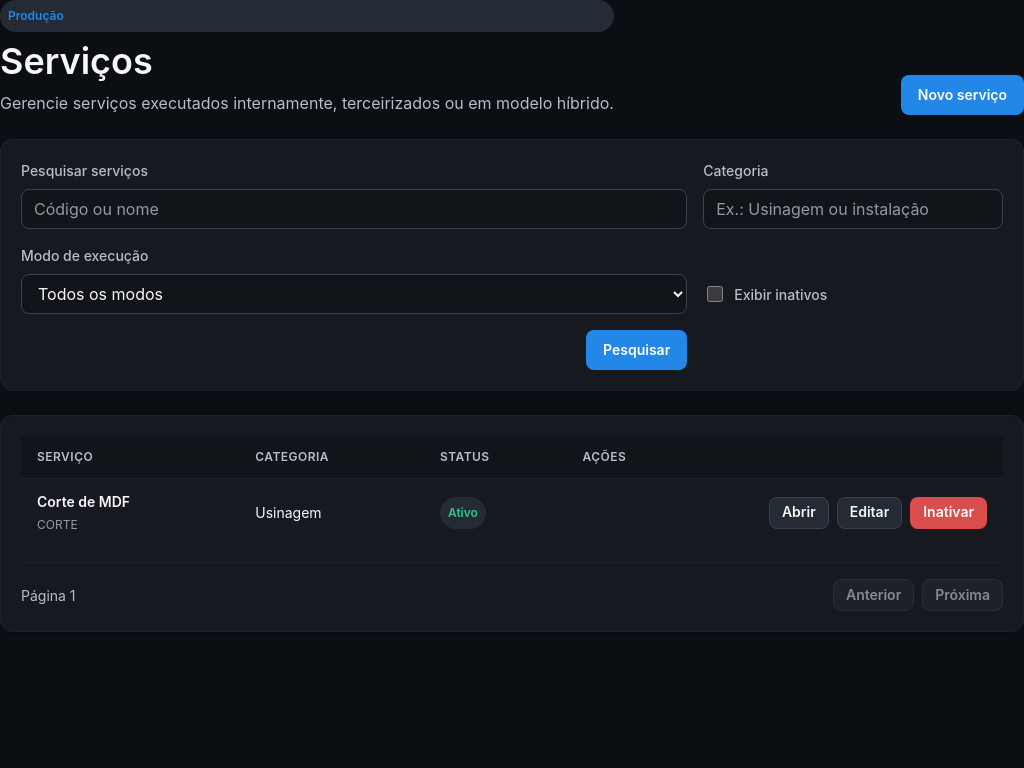
Test case: ServicesRoute › inativa um serviço após confirmação
The image size is (1024, 768).
Expected: the button "Corte de MDF" is shown, [37,491,130,512]
Click the button "Inativar" at {"x": 949, "y": 513}, box [910,497,987,529]
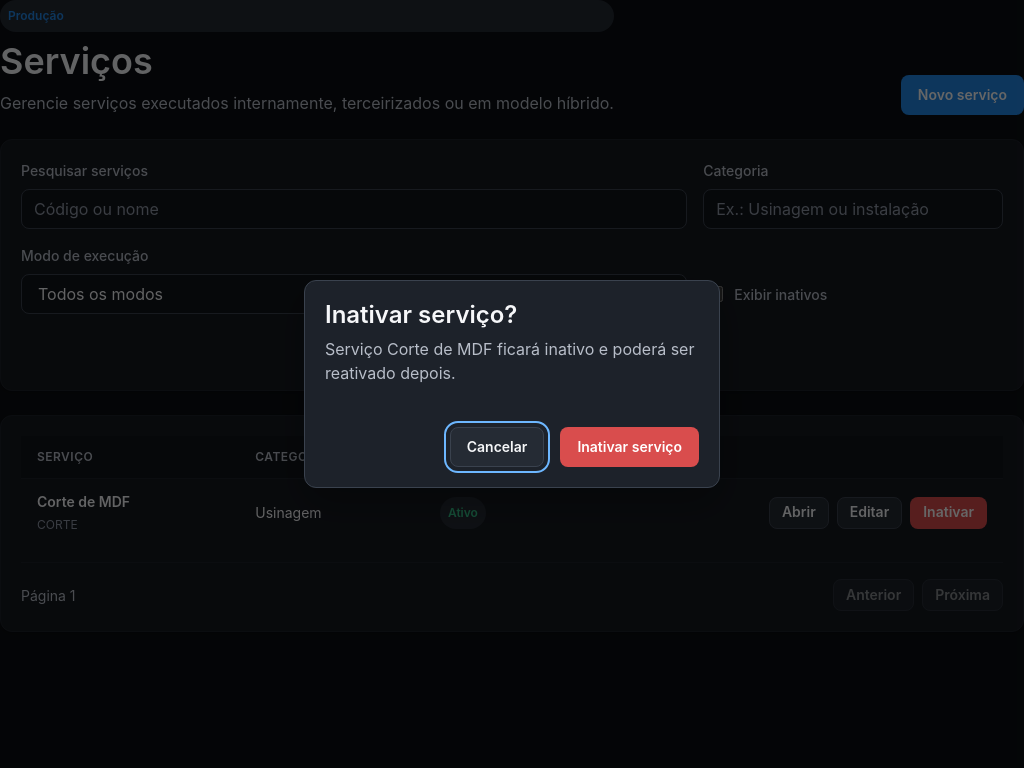
Expected: the text "Inativar serviço?" is shown, [325,300,517,329]
Click the button "Inativar serviço" at {"x": 630, "y": 447}, box [560,427,699,467]
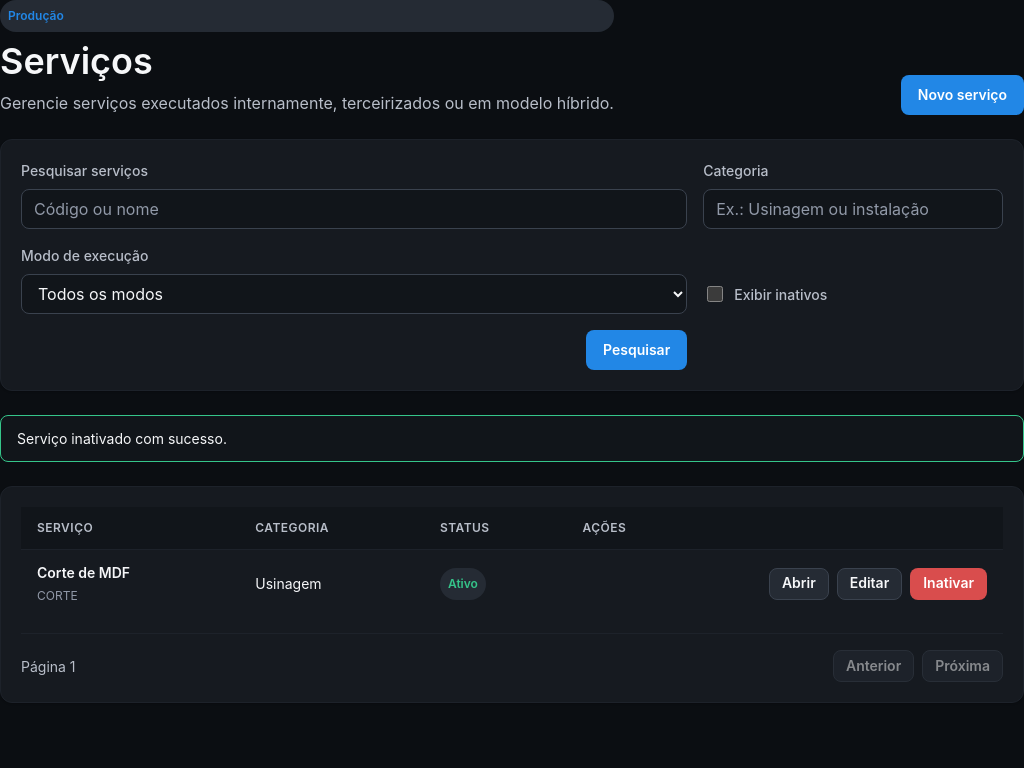
Expected: the text "Serviço inativado com sucesso." is shown, [0,415,1023,462]
